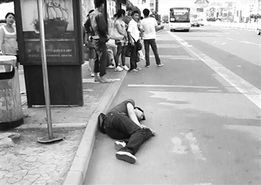falling: (92, 94, 158, 163)
